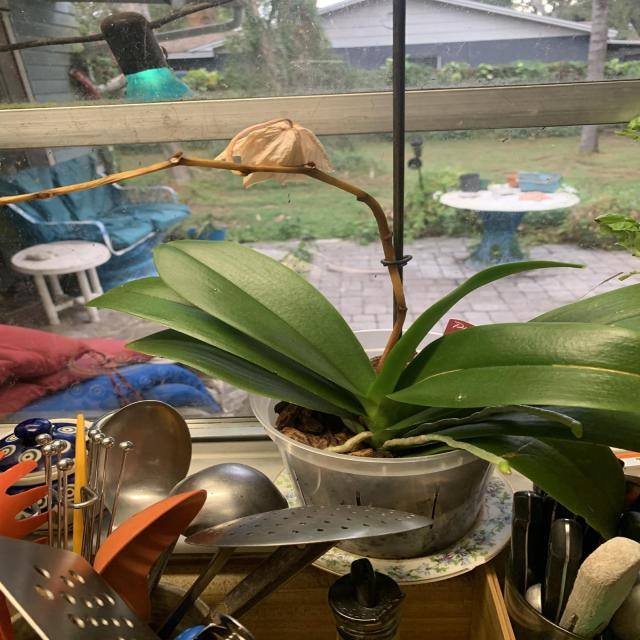leaf: (89, 277, 369, 419), (159, 241, 374, 396), (406, 412, 625, 539), (377, 260, 578, 390), (131, 329, 352, 419), (391, 365, 639, 415)
pot: (250, 342, 509, 565)
